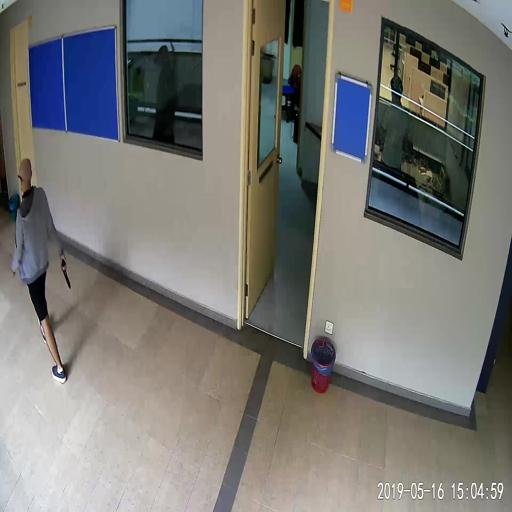pistol: (59, 255, 71, 288)
